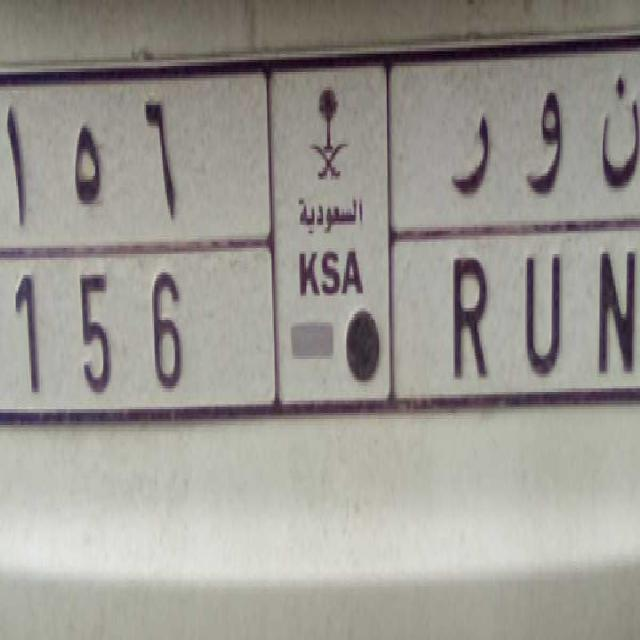license_plate: (1, 223, 640, 433)
